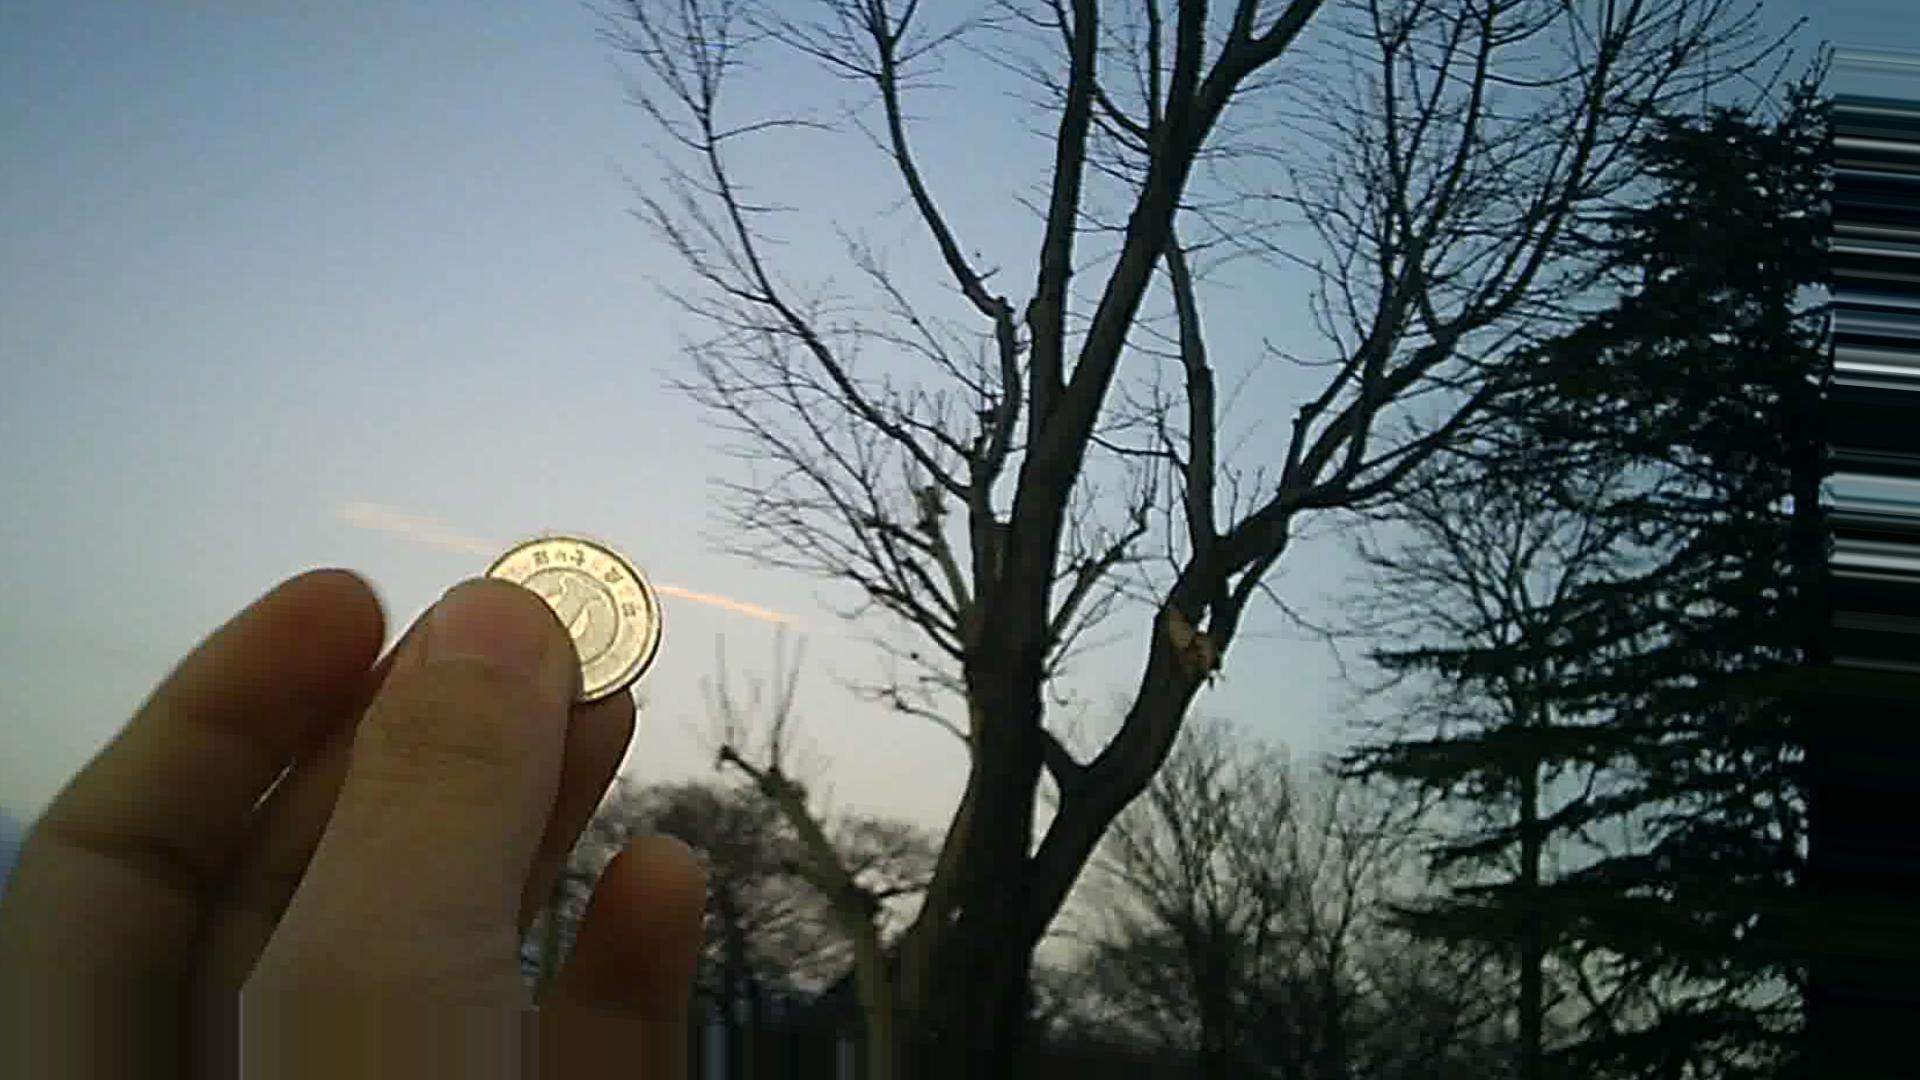1 Yen: (471, 534, 669, 716)
